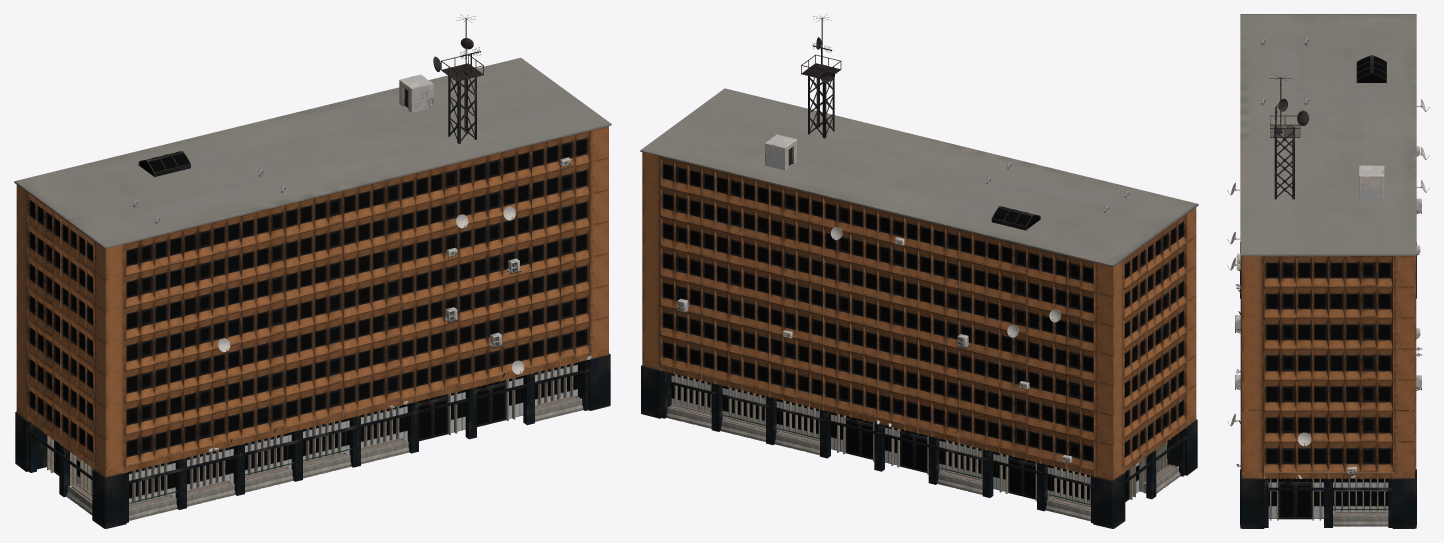
The model's file is 03_past_03.fbx.
3 renders of one model, left to right at view 1: azimuth 30°, elevation 25°; view 2: azimuth 150°, elevation 25°; view 3: azimuth 270°, elevation 25°, orthographic. The views are drawn at different scales.
Visible parts, largest first — view 1: 03_ground_floor_wall_01.010; view 2: 03_ground_floor_wall_01.010; view 3: 03_ground_floor_wall_01.010.
Part boxes in pixels (left/top/right/bottom): 03_ground_floor_wall_01.010: left=14, top=14, right=611, bottom=528; 03_ground_floor_wall_01.010: left=640, top=14, right=1198, bottom=528; 03_ground_floor_wall_01.010: left=1227, top=14, right=1429, bottom=528.
Bounding box in the file's own units: 5183 × 3841 × 1794.
